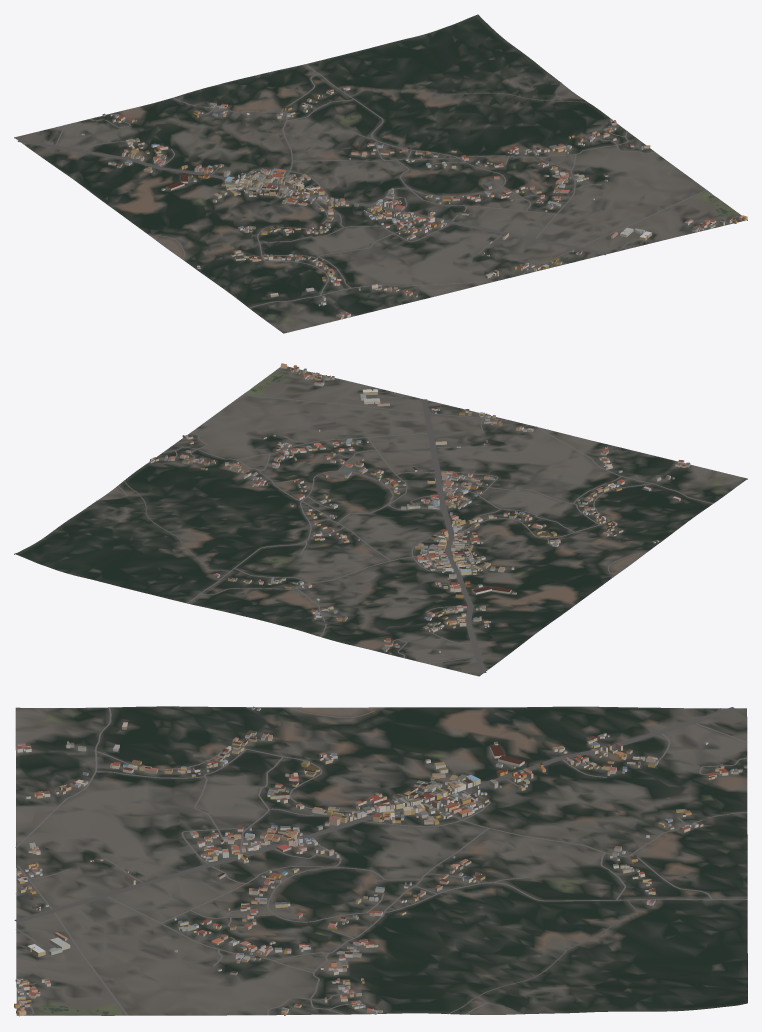
The picture shows the model from 3 angles, top to bottom: view 1: azimuth 30°, elevation 25°; view 2: azimuth 150°, elevation 25°; view 3: azimuth 270°, elevation 25°; orthographic projection. The views are drawn at different scales.
Parts seen in each view (by area): view 1: ground, buildings, roads; view 2: ground, buildings, roads; view 3: ground, buildings, roads.
Part boxes in pixels (box(x1,y1,x2,y2)): ground: box(14, 14, 747, 333); buildings: box(81, 86, 747, 319); roads: box(17, 64, 740, 308); ground: box(14, 366, 747, 676); buildings: box(149, 363, 690, 654); roads: box(96, 368, 713, 673); ground: box(15, 706, 747, 1015); buildings: box(14, 706, 747, 1016); roads: box(14, 707, 747, 1015).
Bounding box in the file's own units: 1408 × 30.7 × 1407.
